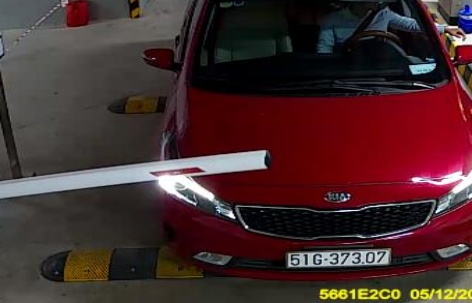plate: (284, 242, 392, 272)
